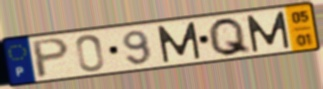0: (74, 32, 106, 73)
9: (120, 28, 154, 67)
M: (155, 20, 203, 65), (244, 10, 293, 54)
P: (31, 36, 72, 80)
Q: (206, 16, 254, 58)
